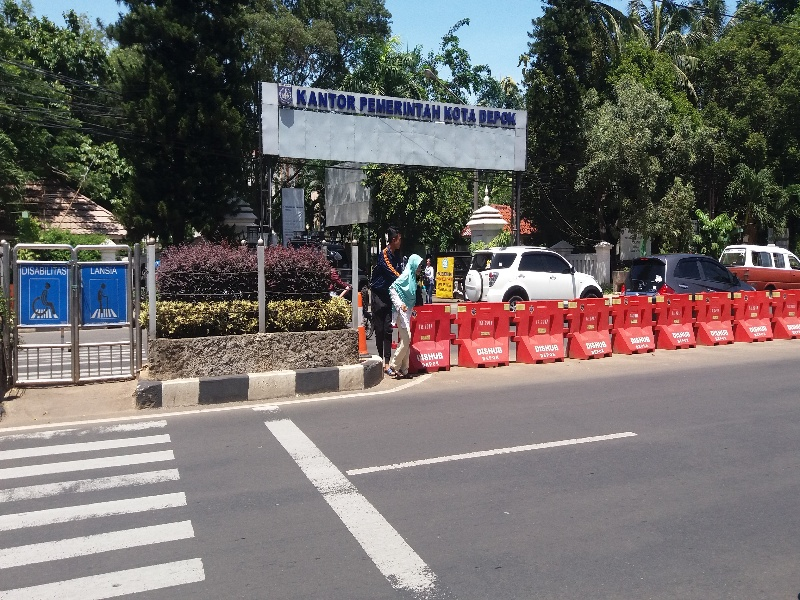zebra cross: (1, 416, 207, 596)
